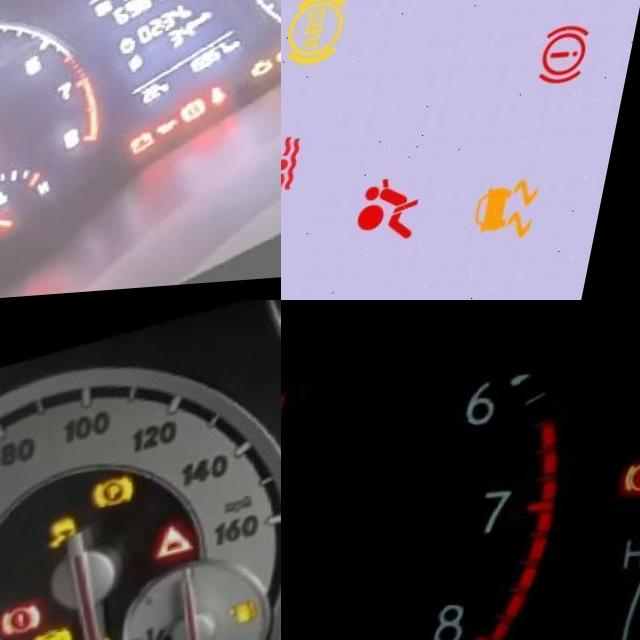High Engine Coolant Temperature: (7, 185, 33, 209)
Low fuel level: (241, 598, 273, 630)
Seat Belt: (223, 82, 249, 108)
